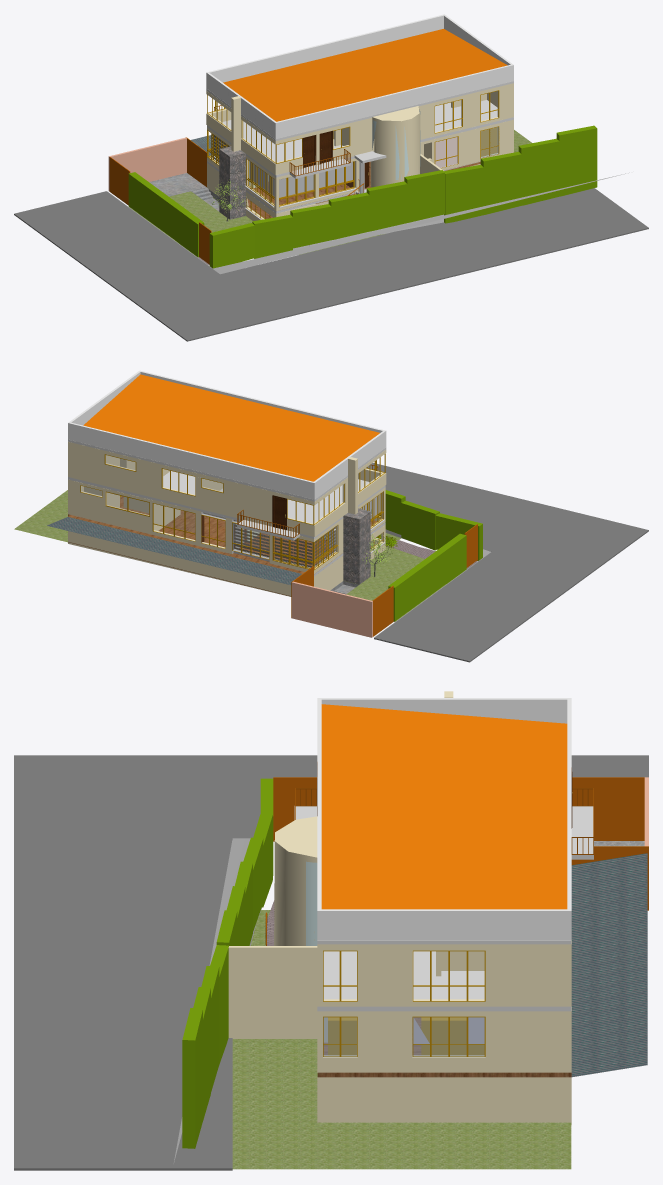
Rendered from building.glb.
3 renders of one model, top to bottom at view 1: azimuth 30°, elevation 25°; view 2: azimuth 150°, elevation 25°; view 3: azimuth 270°, elevation 25°, orthographic. The views are drawn at different scales.
Visible parts, largest first — view 1: Geom3D_ (×9), Geom3D (×11); view 2: Geom3D_ (×11), Geom3D (×8); view 3: Geom3D_ (×8), Geom3D (×8).
Boxes of the visible parts, left/top/right/bottom form: Geom3D_ (×9): left=14, top=29, right=648, bottom=341; Geom3D (×11): left=107, top=14, right=629, bottom=274; Geom3D_ (×11): left=47, top=374, right=648, bottom=662; Geom3D (×8): left=14, top=370, right=466, bottom=621; Geom3D_ (×8): left=14, top=704, right=648, bottom=1170; Geom3D (×8): left=173, top=691, right=571, bottom=1169.
Size of the model in its own units: 37.16 by 8.75 by 22.56.
Materials: 94 (37 with a texture image).
